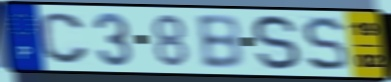3: (92, 10, 134, 68)
8: (149, 12, 192, 69)
B: (193, 13, 246, 71)
C: (36, 11, 92, 66)
S: (250, 13, 303, 73), (300, 15, 351, 74)
